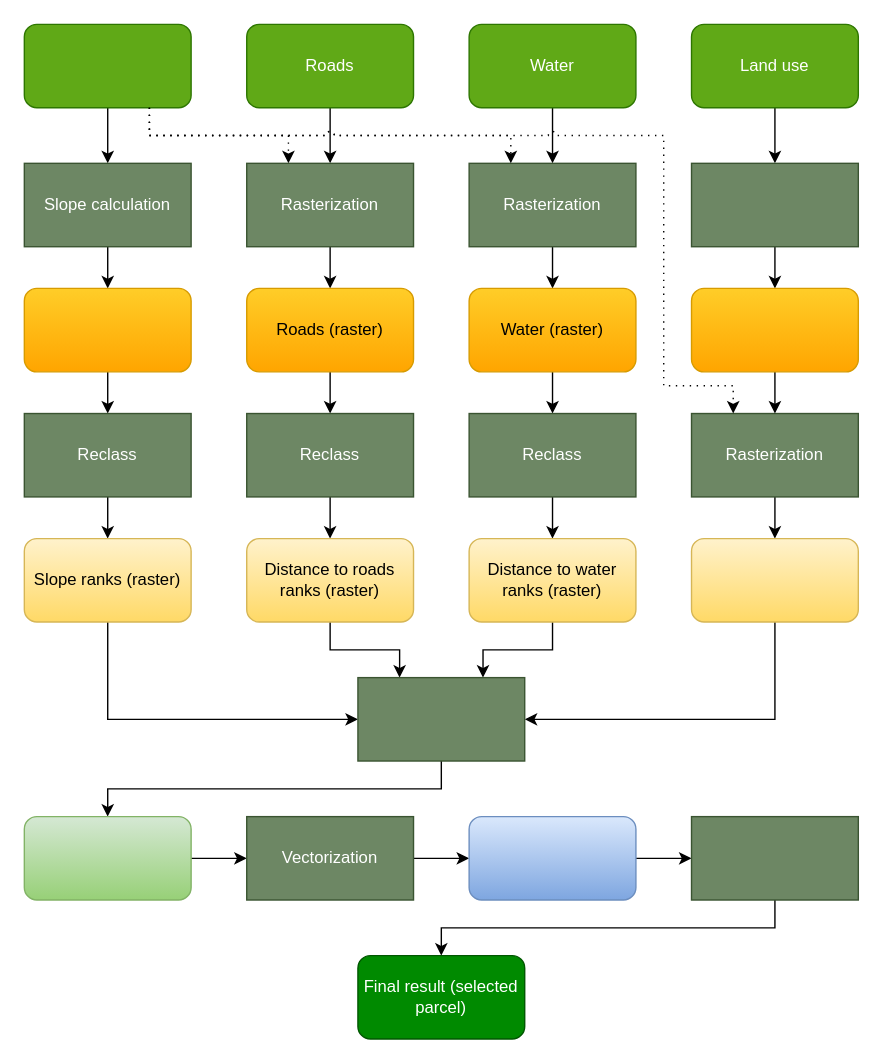
This 883x1063 diagram has some shape labels left out. The centre of each missing label's shape, as x and y in pixels:
Digital elevation model (DEM): the point at 107,65
Land use ranks raster: the point at 774,579
Land use with ranks: the point at 774,329
Overlay result: the point at 107,857
Rank assignment: the point at 774,204
Selection: the point at 774,857
Slope (raster): the point at 107,329
Vector polygons: the point at 552,857
Weighted overlay: the point at 441,718
